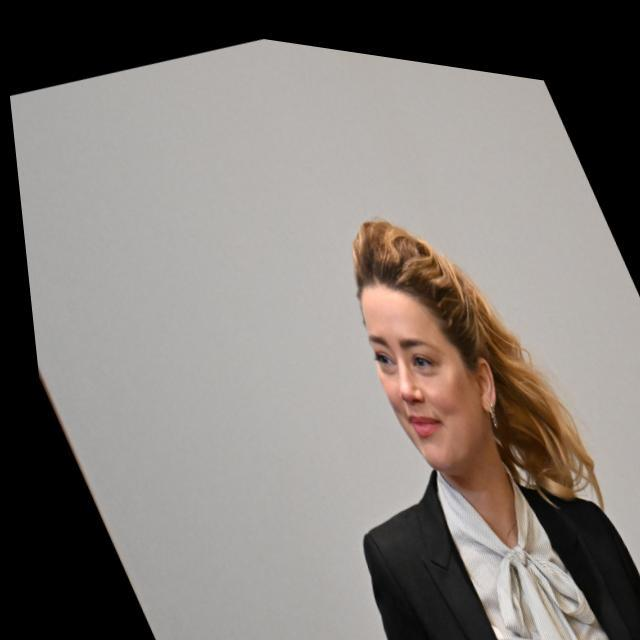Nonhelmet: (332, 230, 508, 473)
